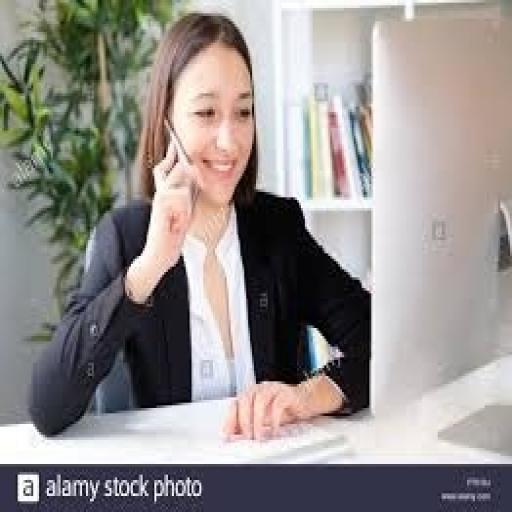calling: (26, 8, 372, 445)
